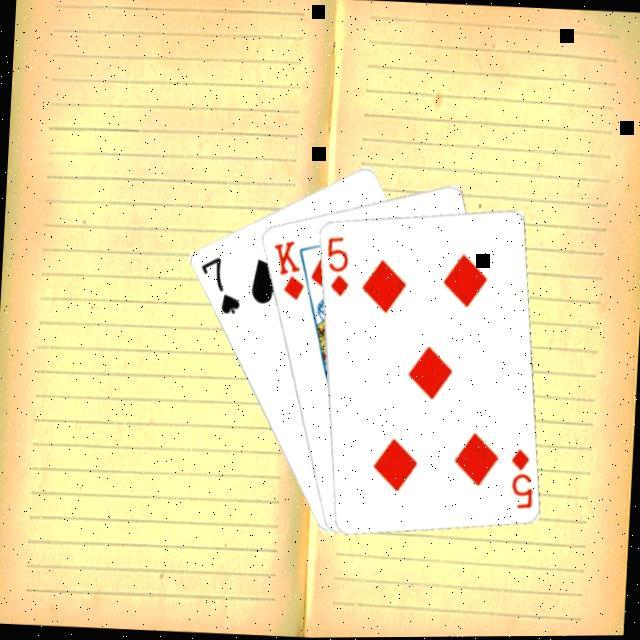5D: (320, 234, 352, 300), (505, 446, 537, 512)
7S: (194, 255, 245, 319)
KD: (267, 237, 308, 305)
